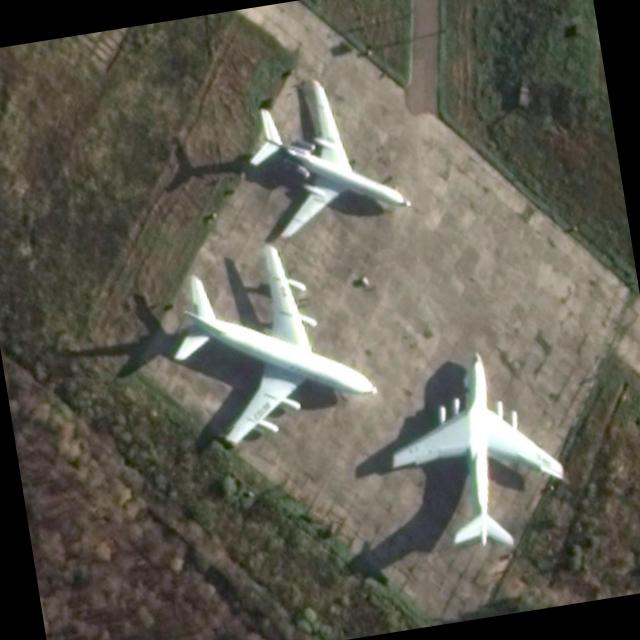plane: (129, 224, 427, 481), (203, 66, 452, 268), (384, 347, 575, 545)
